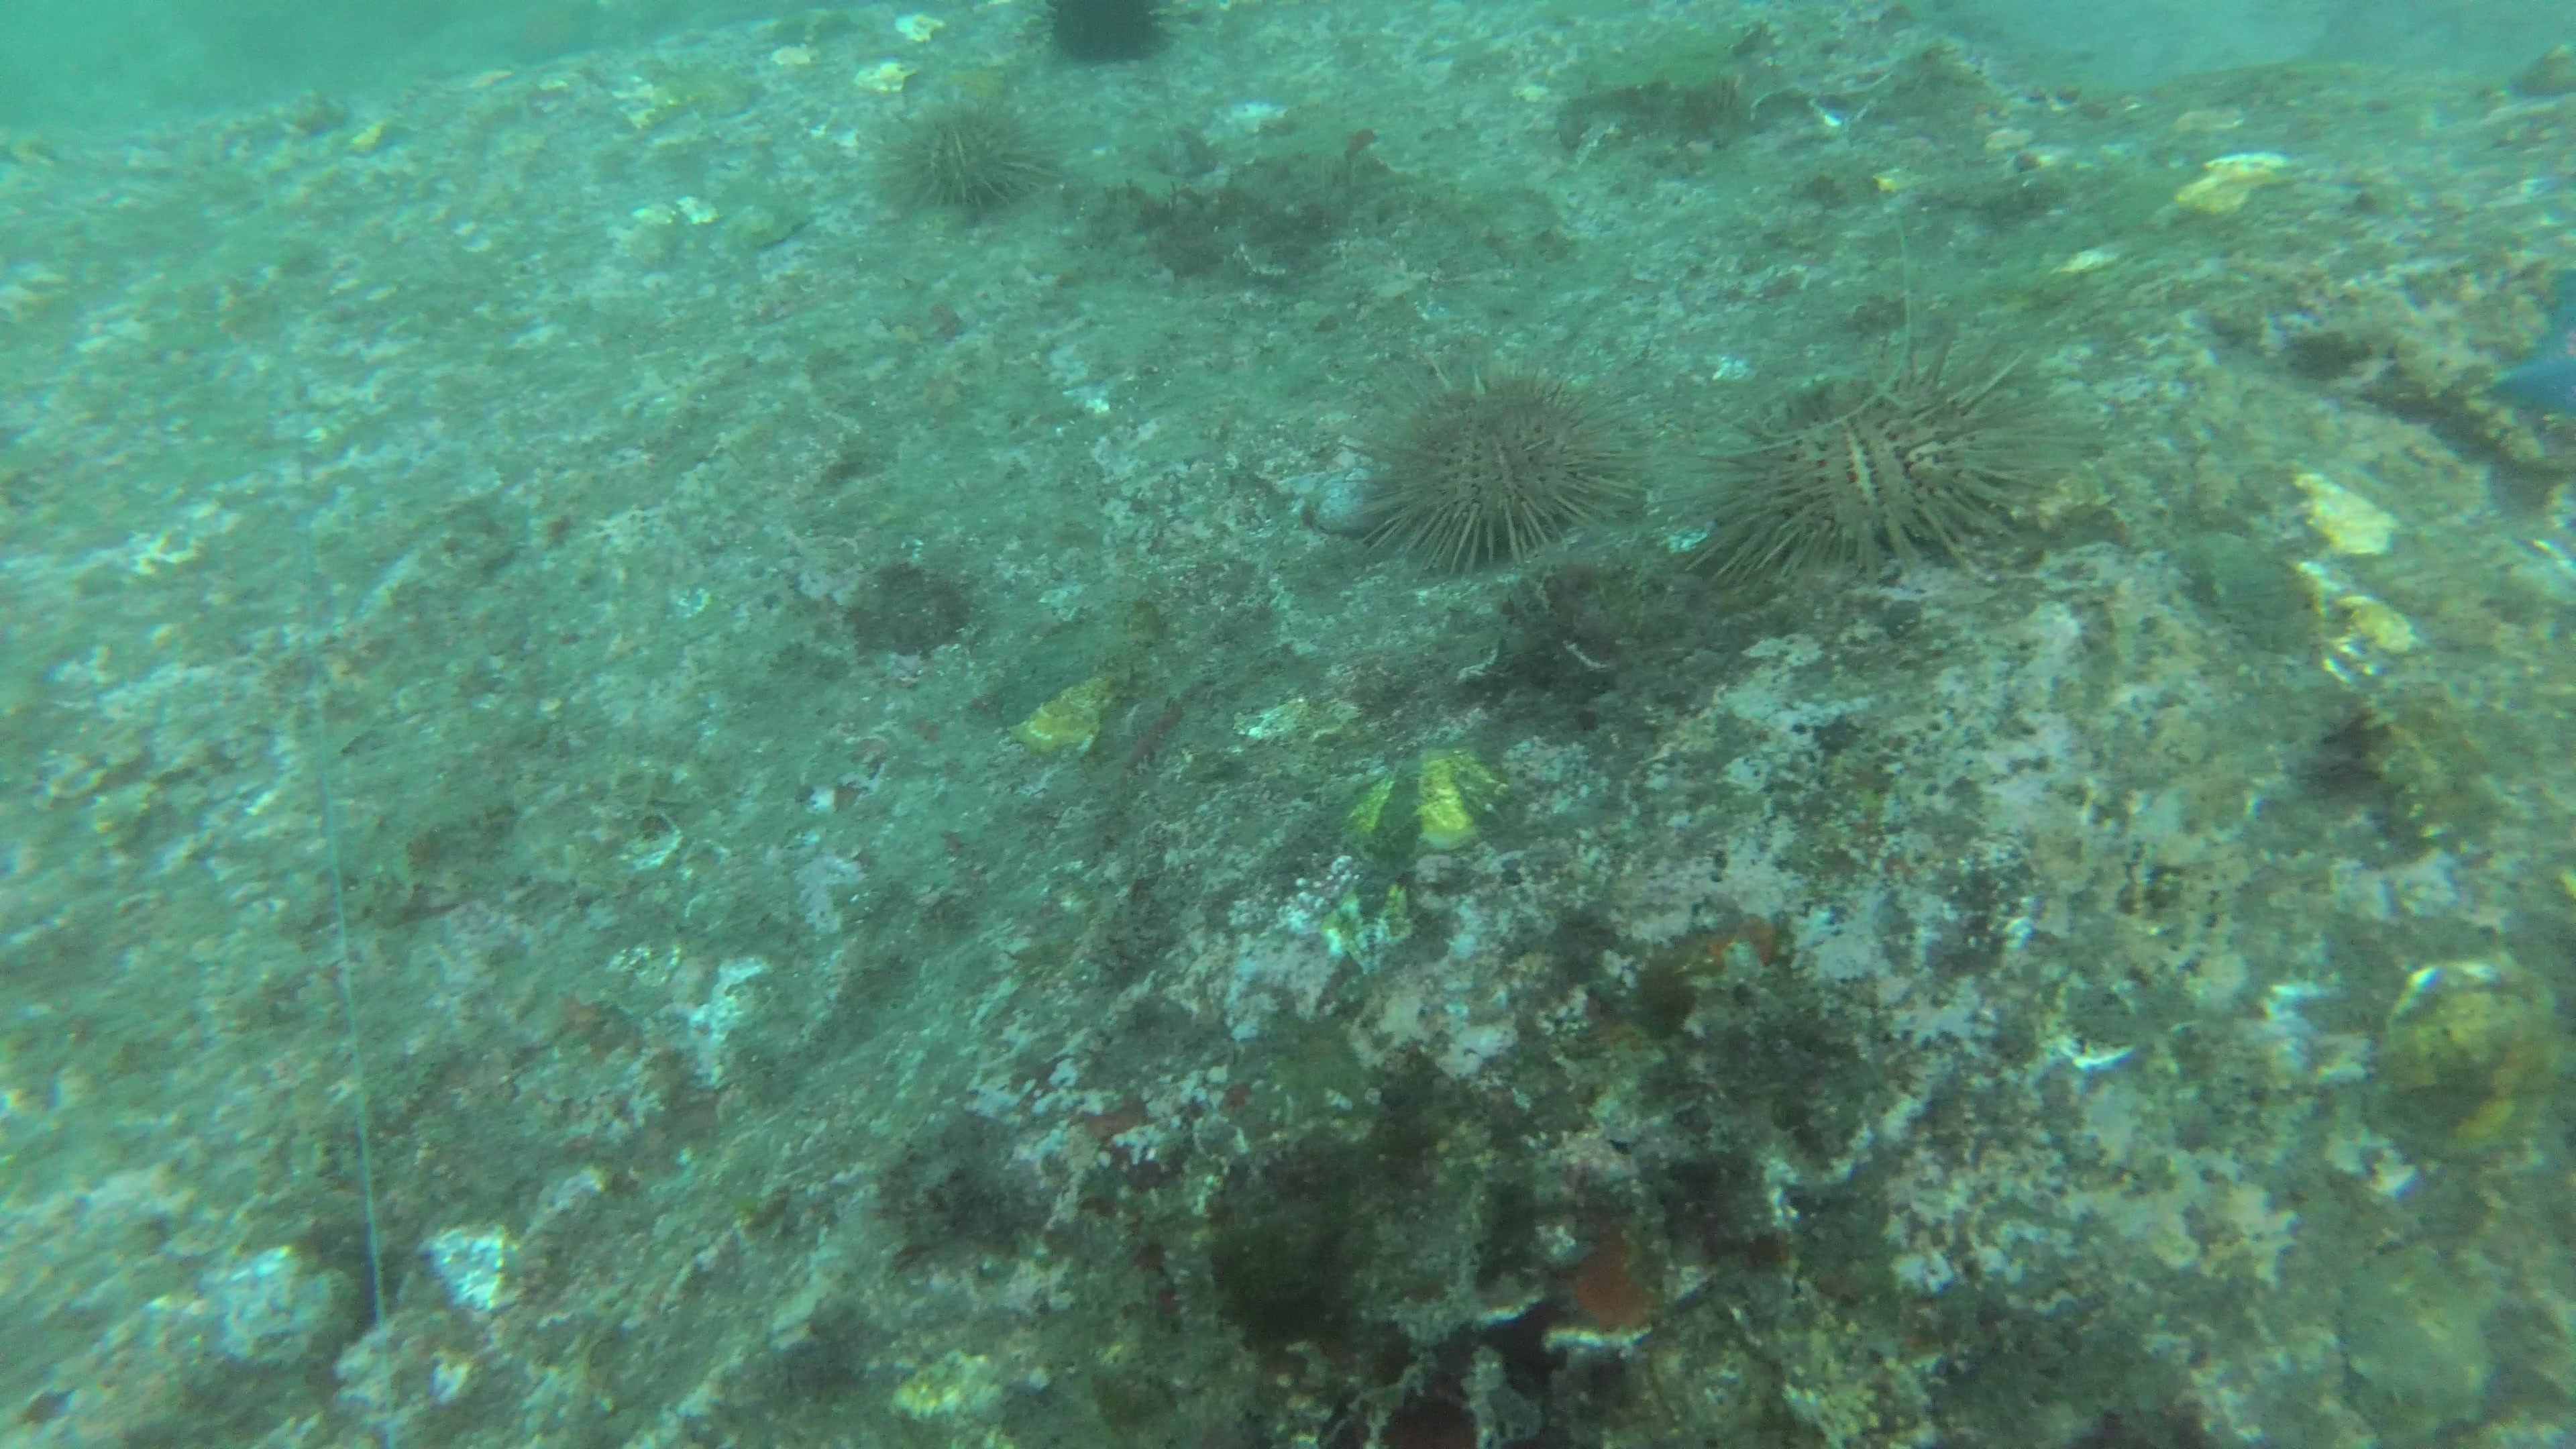echinus: (1695, 327, 2059, 591), (1352, 357, 1637, 579), (870, 92, 1053, 226), (1030, 0, 1180, 73)
starfish: (2480, 269, 2576, 474)
